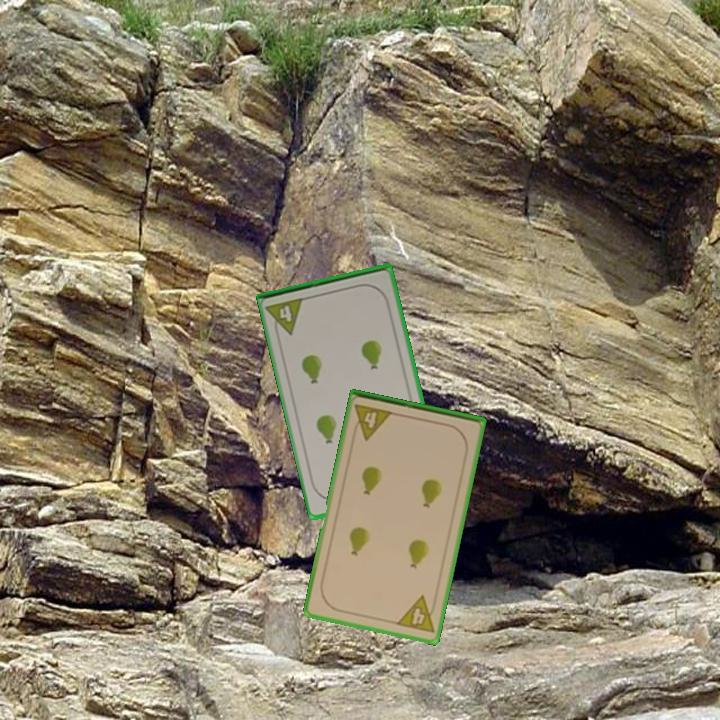4p: (393, 592, 440, 636), (263, 294, 307, 340), (349, 401, 395, 443)
